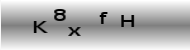8: (53, 8, 65, 21)
H: (119, 14, 134, 28)
K: (32, 18, 47, 34)
f: (97, 10, 108, 25)
x: (66, 25, 81, 37)
